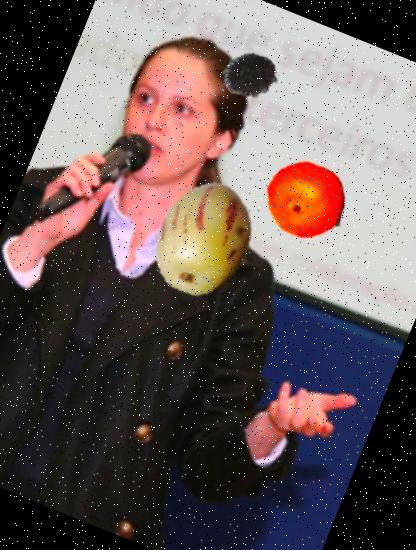Clementine: (254, 146, 362, 255)
Pepino: (128, 165, 276, 313)
Rambutan: (215, 41, 283, 109)
